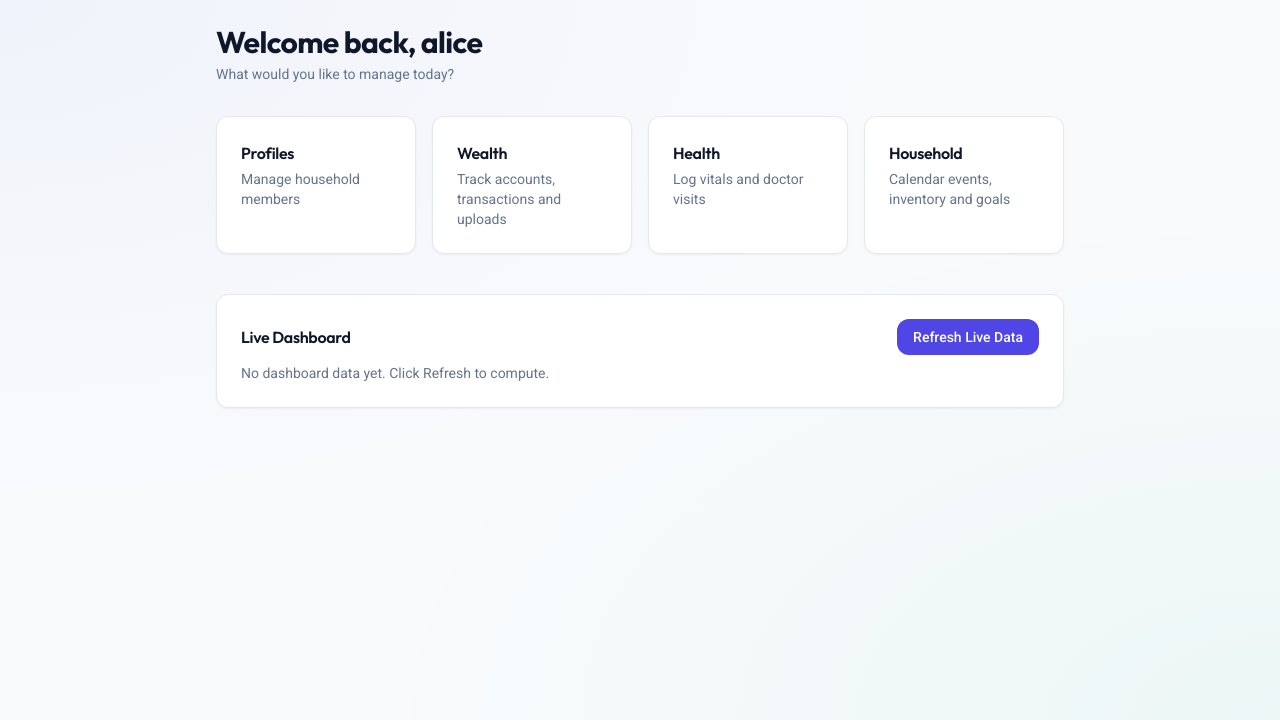
Test: Dashboard › shows spinner and "Refreshing..." text while refresh in progress
What coordinates should you click on to do the following:
click the button "Refresh Live Data"
I would click on:
 (968, 337)
Its box is [897,319,1039,355].
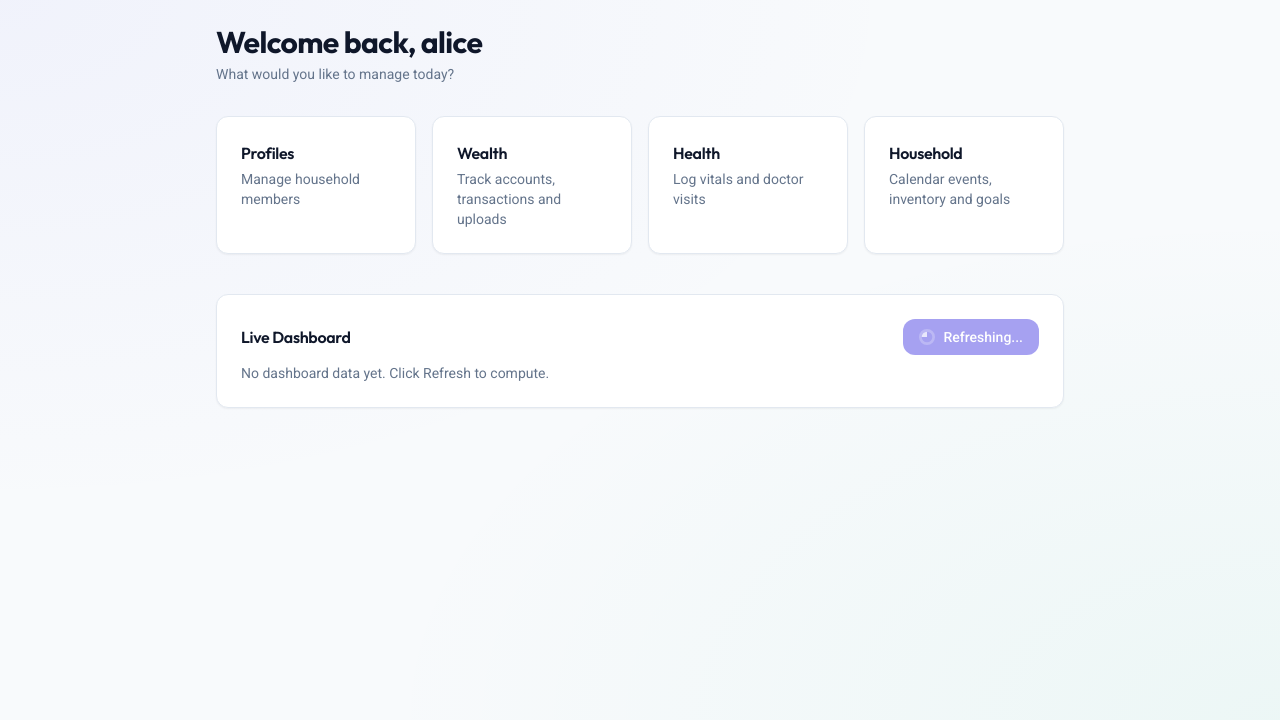
Expected: the button "Refreshing..." is shown, [904,319,1039,355]
